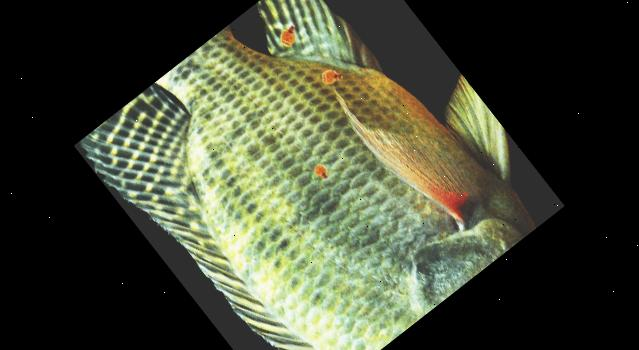Parasitic Disease: (81, 0, 536, 350)
